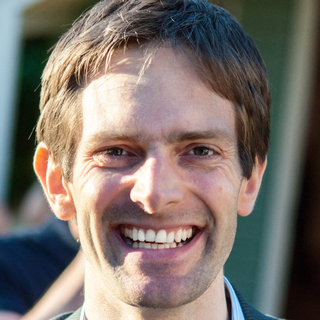eye: (176, 140, 223, 165), (93, 142, 141, 165)
